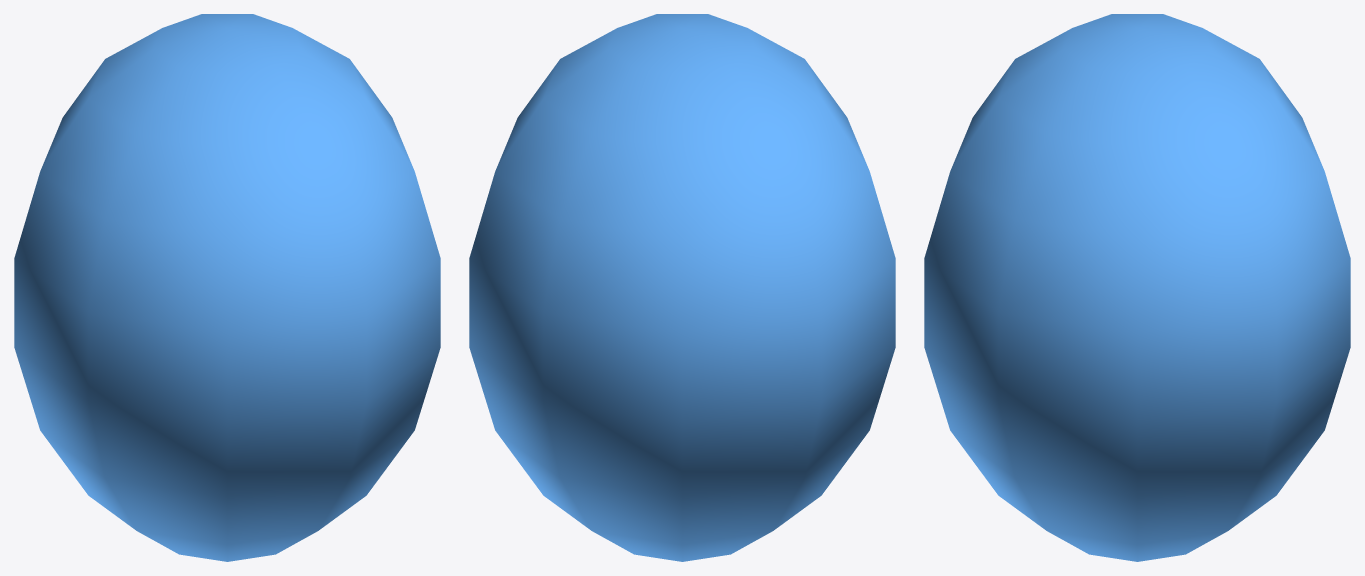
File: sibilobo_stage1.obj
3 views of the same model, side by side, from view 1: azimuth 30°, elevation 25°; view 2: azimuth 150°, elevation 25°; view 3: azimuth 270°, elevation 25° (orthographic).
Size of the model in its own units: 1.34 by 1.82 by 1.36.
